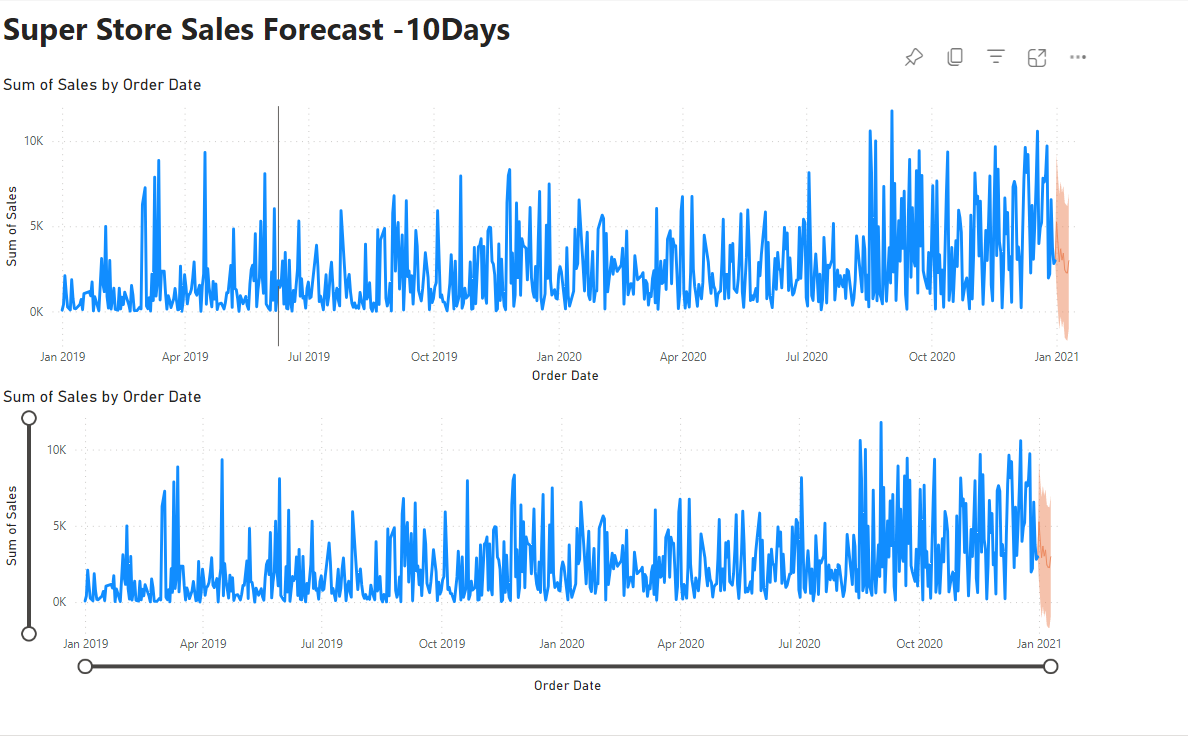

The page's visual inventory and layout, read from the dashboard file:
{"tool":"powerbi","page":{"name":"Forecast","canvas":[1280,720],"ordinal":1},"visuals":[{"type":"lineChart","fields":{"Y":["Sum(SuperStore_Sales_Dataset.Sales)"],"Category":["SuperStore_Sales_Dataset.Order Date"]},"box":[0,75.6,1135.8,323.2],"z":0},{"type":"lineChart","fields":{"Y":["Sum(SuperStore_Sales_Dataset.Sales)"],"Category":["SuperStore_Sales_Dataset.Order Date"]},"box":[0,398.7,1116.9,321.3],"z":1},{"type":"textbox","box":[1127,399,153,321],"z":2},{"type":"textbox","box":[0,0,882.5,75.6],"z":3}]}

Visuals, with their boxes on the page's 1280x720 design canvas (x1, y1, x2, y2). These are canvas units, not pixel positions in the 1188x736 screenshot, which may show the page scaled, cropped or inside an application window:
lineChart - Sum(SuperStore_Sales_Dataset.Sales) x SuperStore_Sales_Dataset.Order Date: 0 76 1136 399
lineChart - Sum(SuperStore_Sales_Dataset.Sales) x SuperStore_Sales_Dataset.Order Date: 0 399 1117 720
textbox: 1127 399 1280 720
textbox: 0 0 882 76
